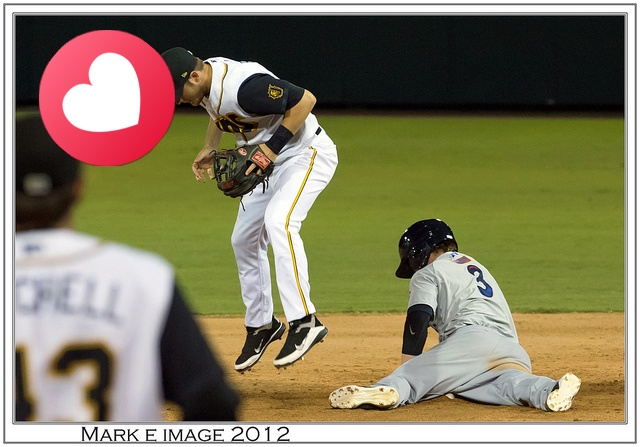love: (39, 30, 175, 166)
